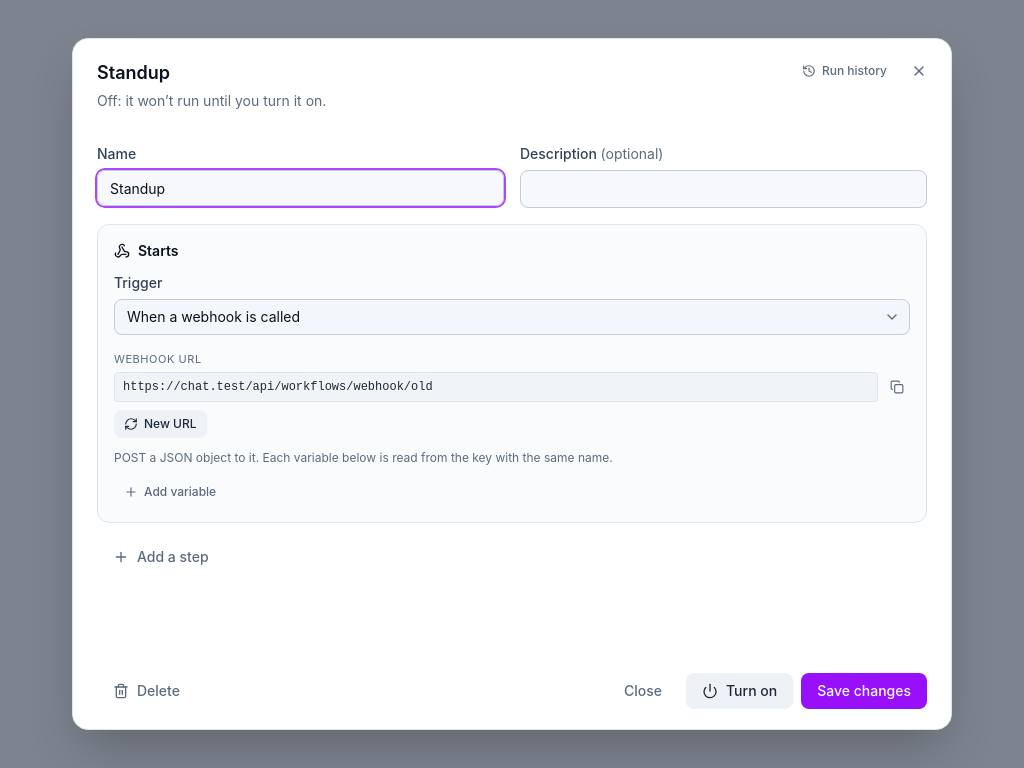
Scenario: WorkflowEditor › replaces a webhook workflow’s URL and shows the new one
Expected: the text with test id "workflow-webhook-url" shows "/webhook/old", left=123, top=380, right=433, bottom=394
Click the button with test id "workflow-rotate" at point(160, 424), box left=114, top=410, right=206, bottom=438
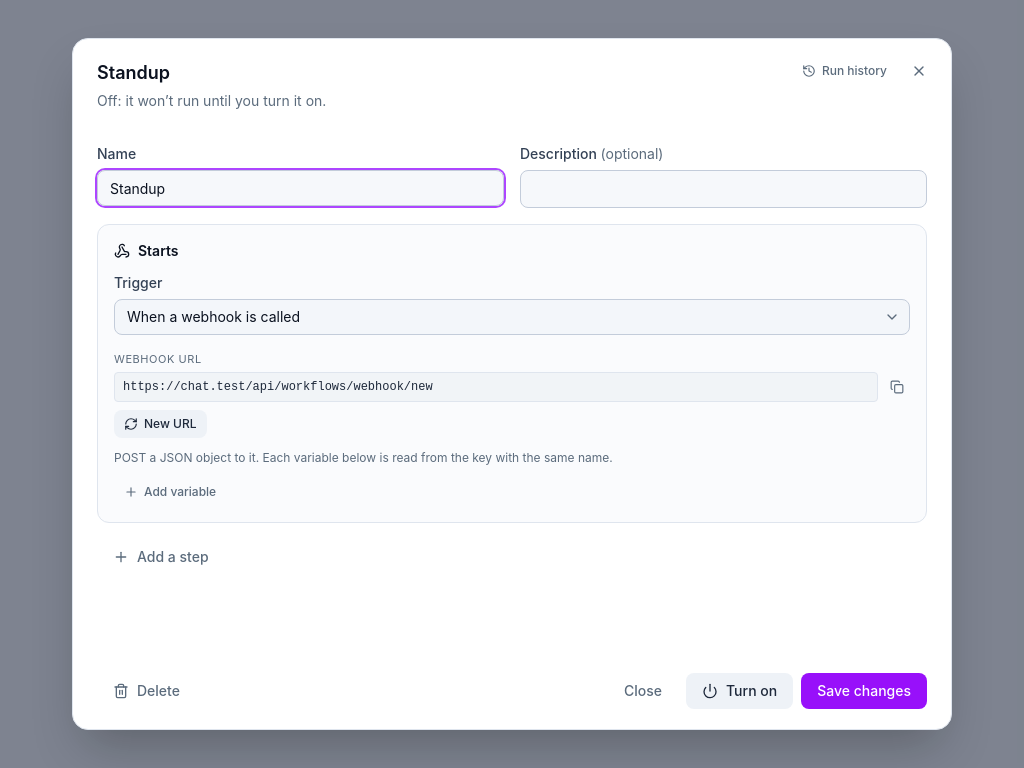
Expected: the text with test id "workflow-webhook-url" shows "/webhook/new", left=123, top=380, right=433, bottom=394
